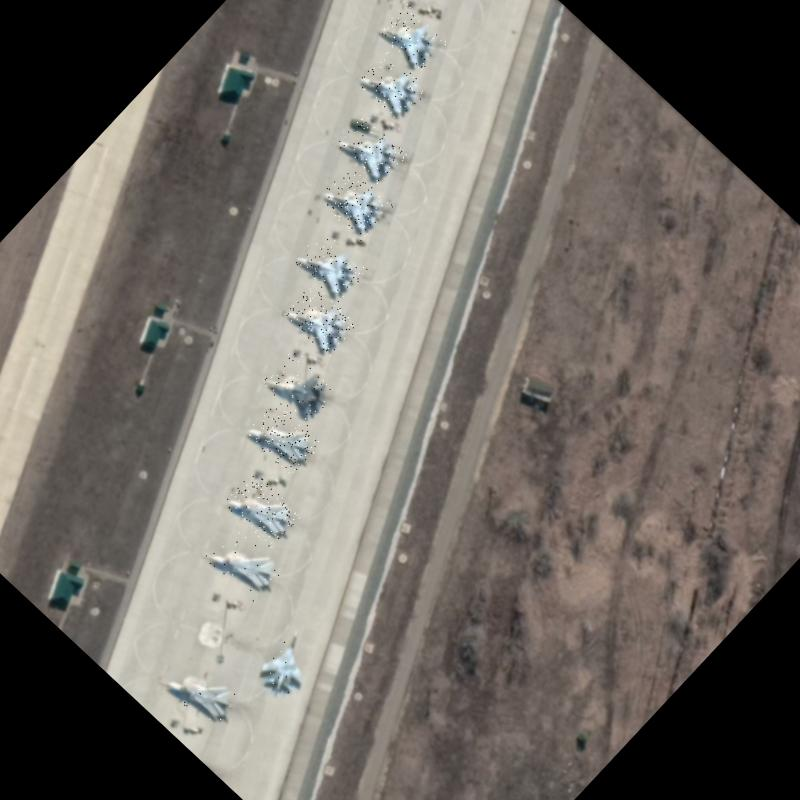A1: (254, 627, 330, 703), (376, 2, 449, 73)
A19: (260, 348, 340, 428), (316, 164, 393, 242), (292, 228, 368, 304), (282, 283, 358, 358), (334, 115, 408, 187), (356, 51, 428, 123)
A20: (202, 524, 286, 606), (161, 652, 244, 734), (222, 471, 302, 549), (245, 400, 322, 477)
